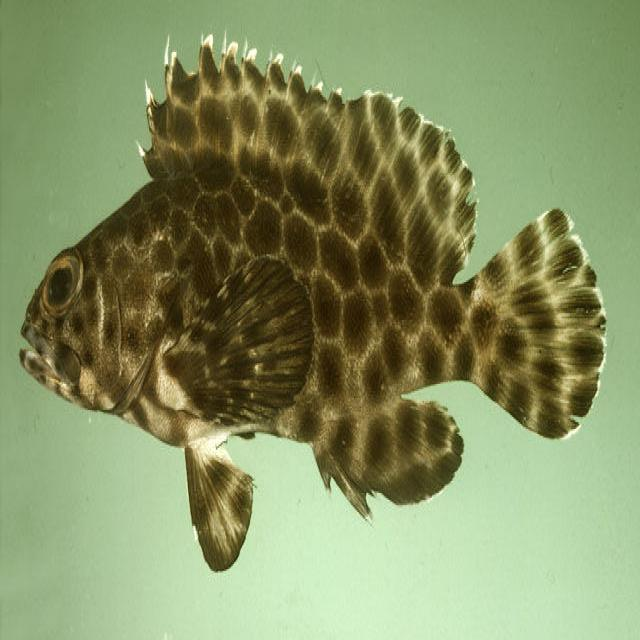ikan: (18, 28, 607, 572)
